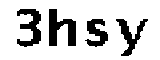3: (12, 4, 44, 54)
h: (46, 4, 80, 54)
s: (84, 15, 110, 56)
y: (113, 15, 147, 60)
